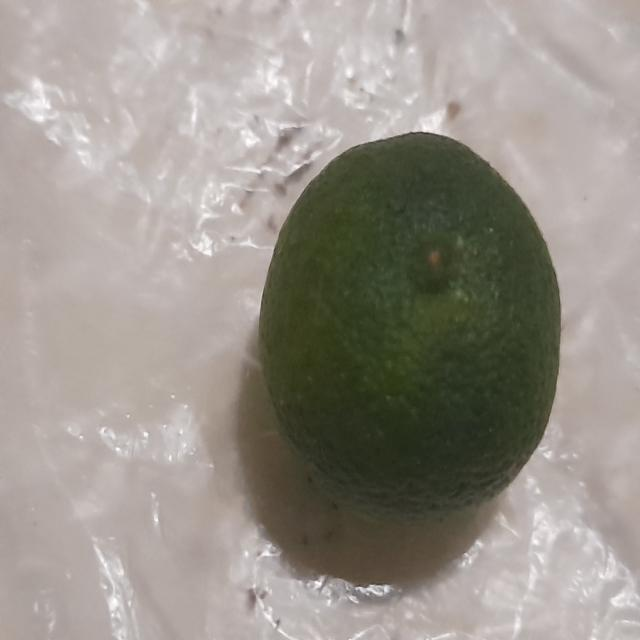heathy: (257, 120, 566, 526)
